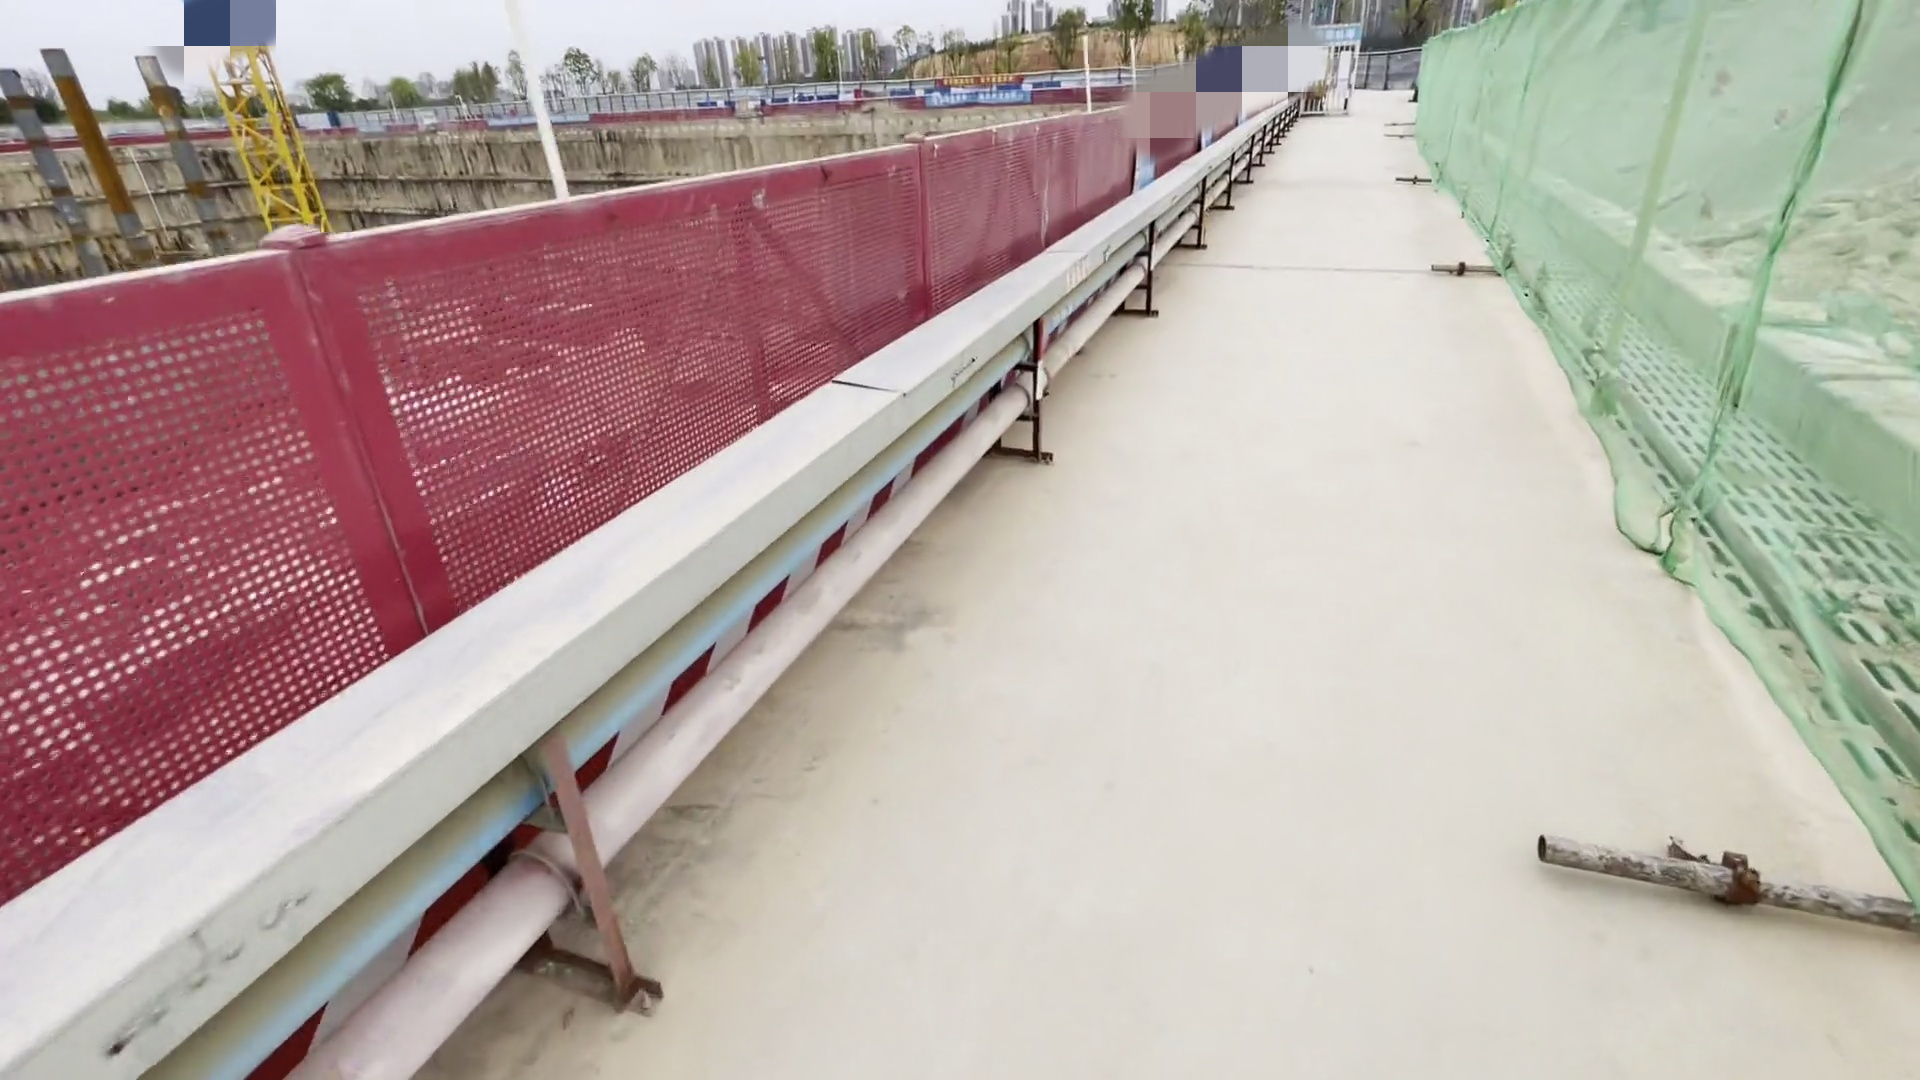fence: (1, 86, 1319, 914)
slogan: (1327, 24, 1362, 44)
